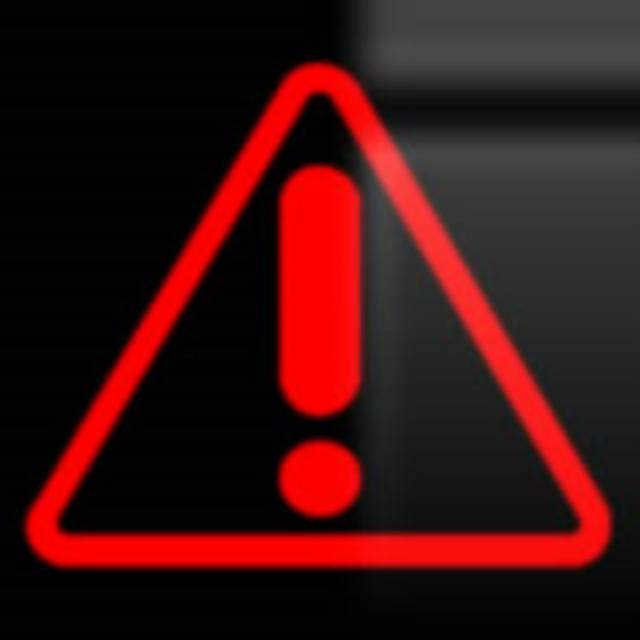CriticalWarning: (21, 54, 612, 572)
